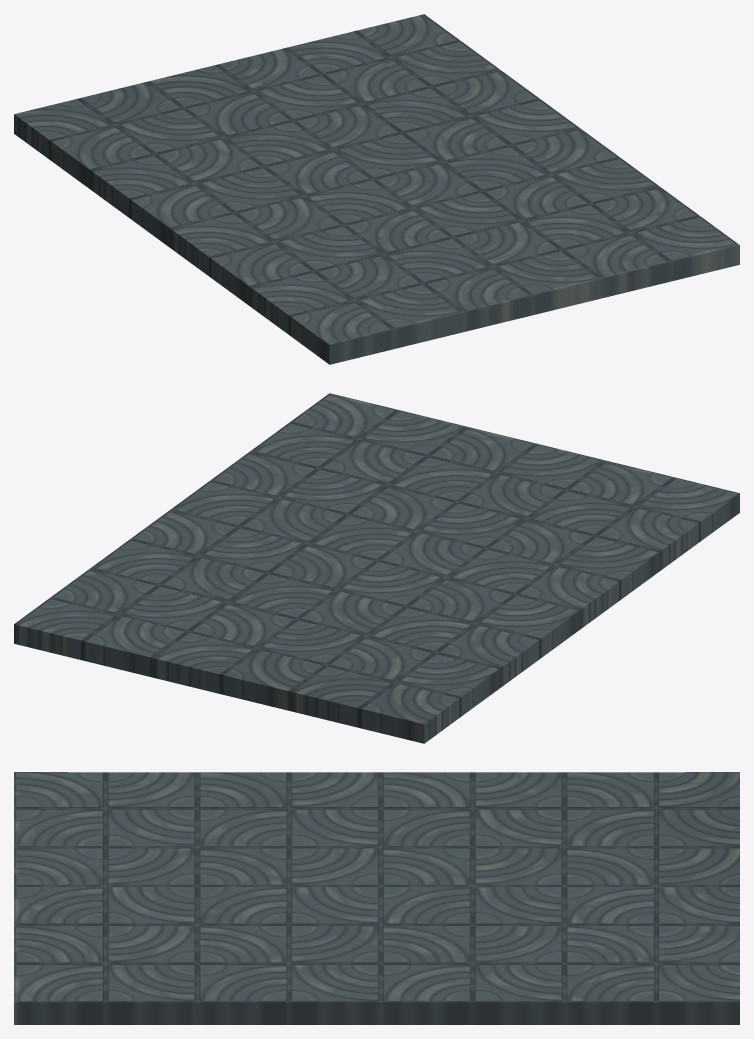
File: ProjectRG_Environment_RuinsAqueduct_HalfPanel.fbx
3 renders of one model, top to bottom at view 1: azimuth 30°, elevation 25°; view 2: azimuth 150°, elevation 25°; view 3: azimuth 270°, elevation 25°, orthographic. The views are drawn at different scales.
Visible parts, largest first — view 1: ProjectRG_Environment_RuinsAqueduct_HalfPanel; view 2: ProjectRG_Environment_RuinsAqueduct_HalfPanel; view 3: ProjectRG_Environment_RuinsAqueduct_HalfPanel.
Part boxes in pixels (x1,y1,x2,y2): ProjectRG_Environment_RuinsAqueduct_HalfPanel: (14,14,739,364); ProjectRG_Environment_RuinsAqueduct_HalfPanel: (14,393,739,743); ProjectRG_Environment_RuinsAqueduct_HalfPanel: (14,772,739,1024).
Size of the model in its own units: 1501 by 68.4 by 2000.
